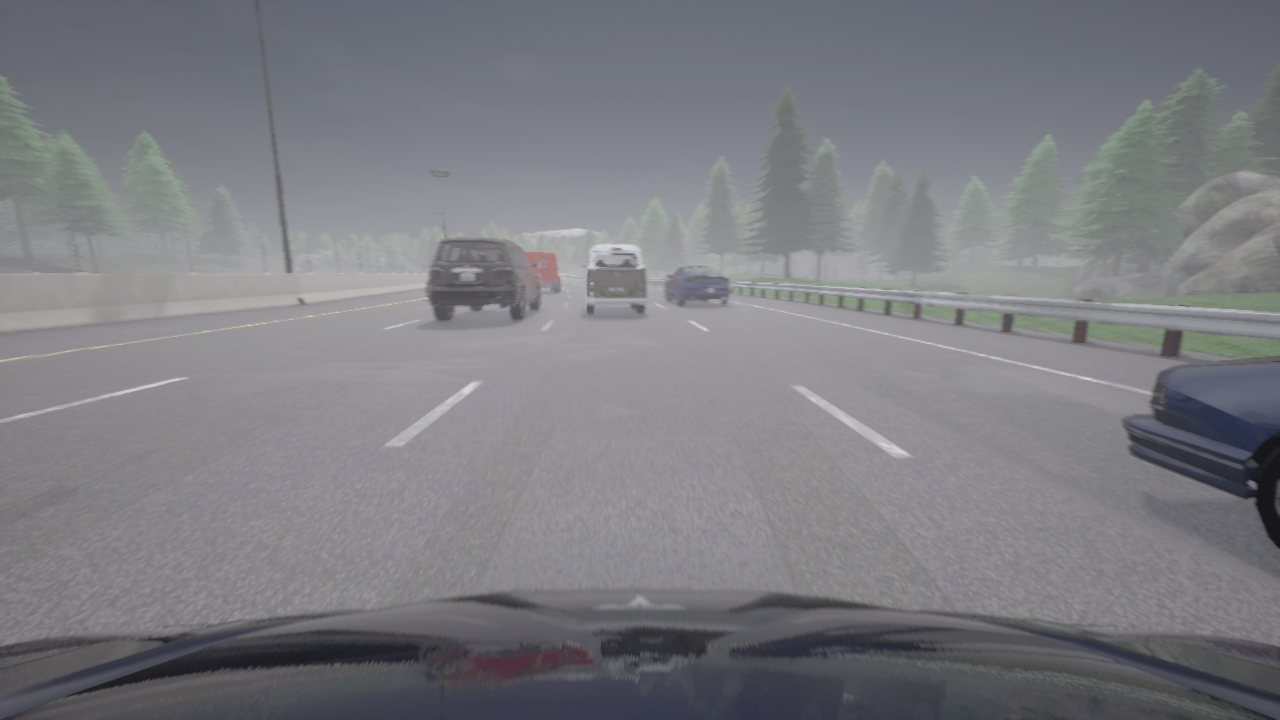cyclist: (0, 588, 1279, 719), (1122, 357, 1279, 549), (428, 238, 540, 320), (583, 243, 646, 314), (665, 265, 730, 304), (524, 252, 560, 291), (426, 280, 428, 298)
